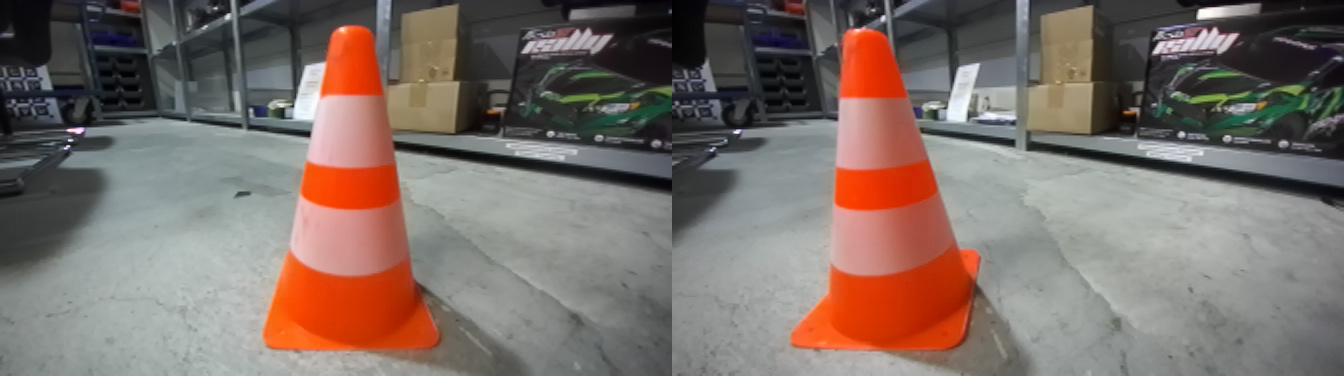cone: (788, 35, 988, 357), (263, 31, 444, 359)
